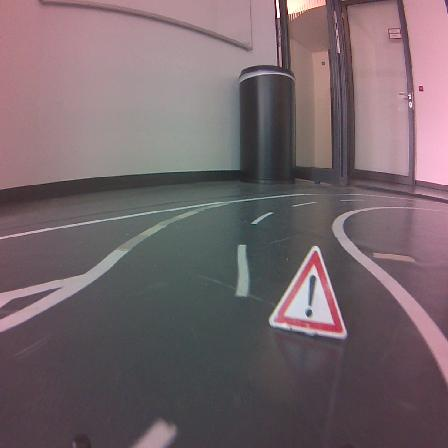ATTENTION: (269, 246, 346, 338)
